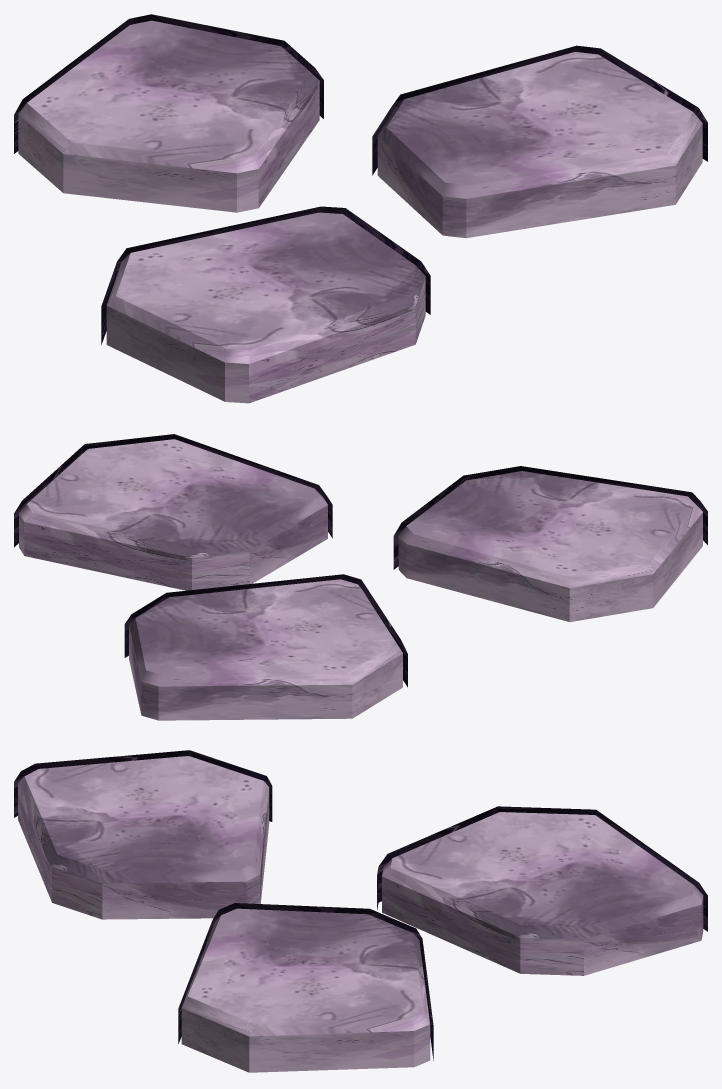
File: path-03.glb
The picture shows the model from 3 angles, top to bottom: view 1: azimuth 30°, elevation 25°; view 2: azimuth 150°, elevation 25°; view 3: azimuth 270°, elevation 25°; orthographic projection. The views are drawn at different scales.
Parts seen in each view (by area): view 1: Path_03_Art; view 2: Path_03_Art; view 3: Path_03_Art.
Boxes of the visible parts, <box> form: Path_03_Art: <box>14,14,707,403</box>; Path_03_Art: <box>14,434,707,720</box>; Path_03_Art: <box>14,750,707,1072</box>.
Bounding box in the file's own units: 1.88 × 0.173 × 1.93.
Materials: 2 (2 with a texture image).
